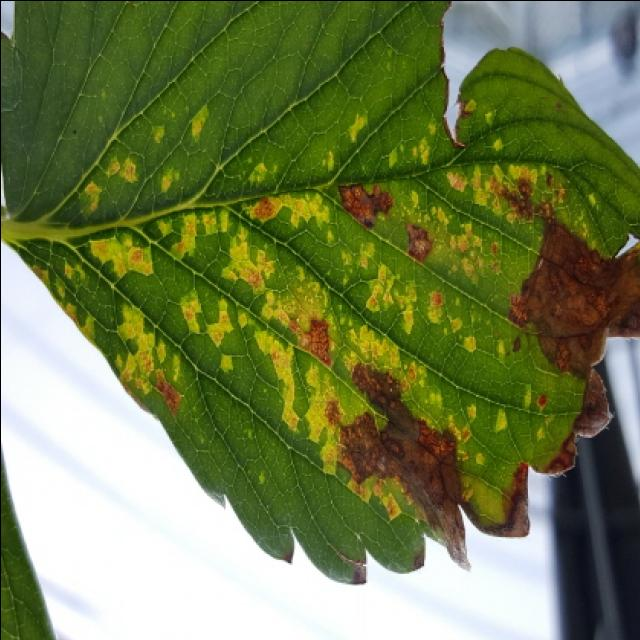Angular Leafspot: (7, 2, 638, 585)
